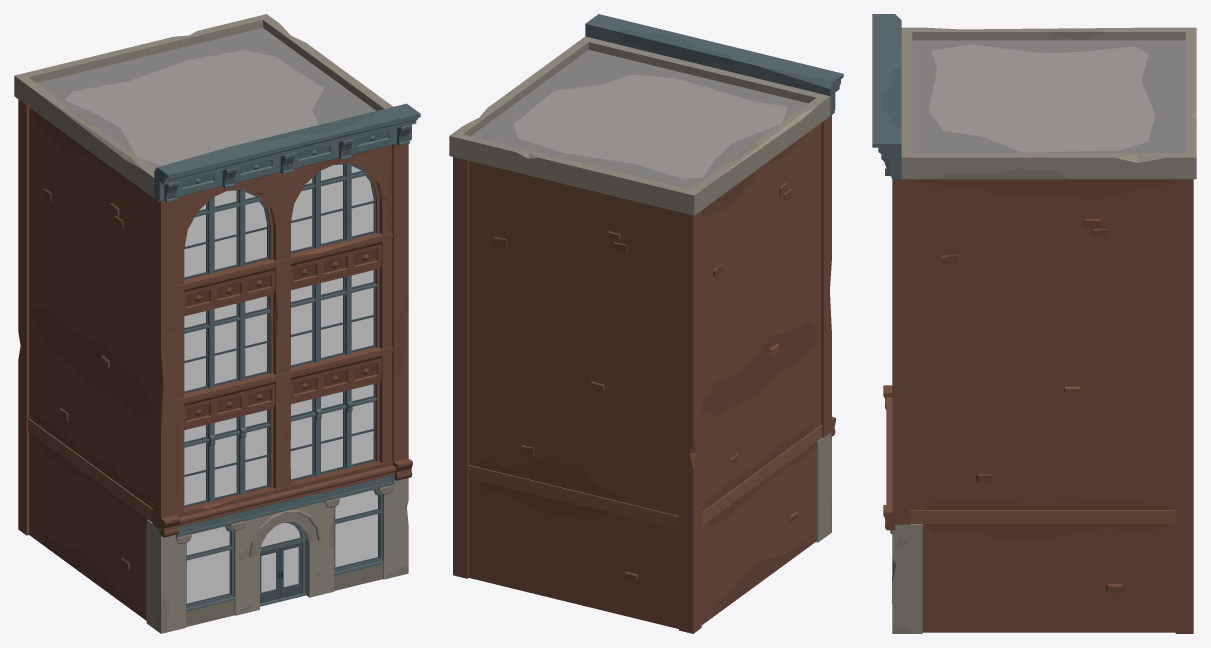
The model's file is SM_Bldg_City_Generic_01.fbx.
3 renders of one model, left to right at view 1: azimuth 30°, elevation 25°; view 2: azimuth 150°, elevation 25°; view 3: azimuth 270°, elevation 25°, orthographic. The views are drawn at different scales.
Parts seen in each view (by area): view 1: SM_Bldg_City_Generic_01; view 2: SM_Bldg_City_Generic_01; view 3: SM_Bldg_City_Generic_01.
Boxes of the visible parts, box(x1,y1,x2,y2) form: SM_Bldg_City_Generic_01: box(14, 14, 420, 633); SM_Bldg_City_Generic_01: box(449, 14, 843, 633); SM_Bldg_City_Generic_01: box(872, 14, 1196, 633).
Bounding box in the file's own units: 1020 × 1800 × 1077.
